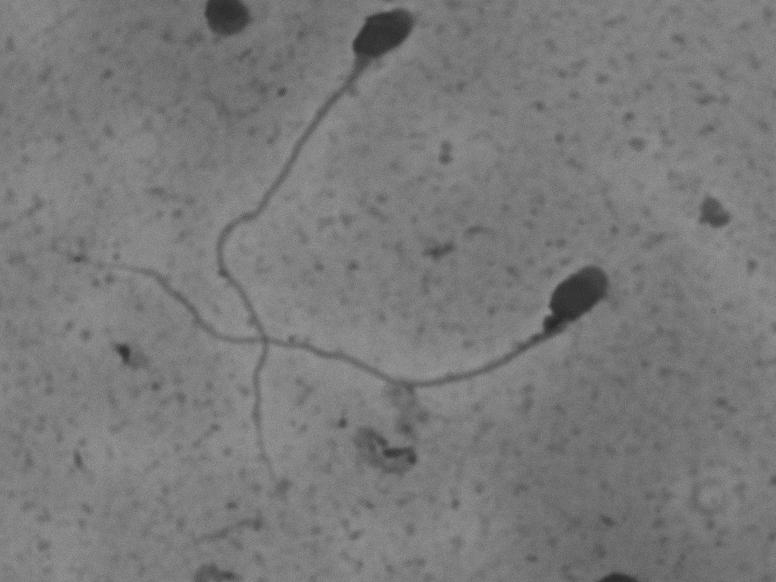Abnormal: (14, 218, 667, 448), (195, 2, 430, 494)
